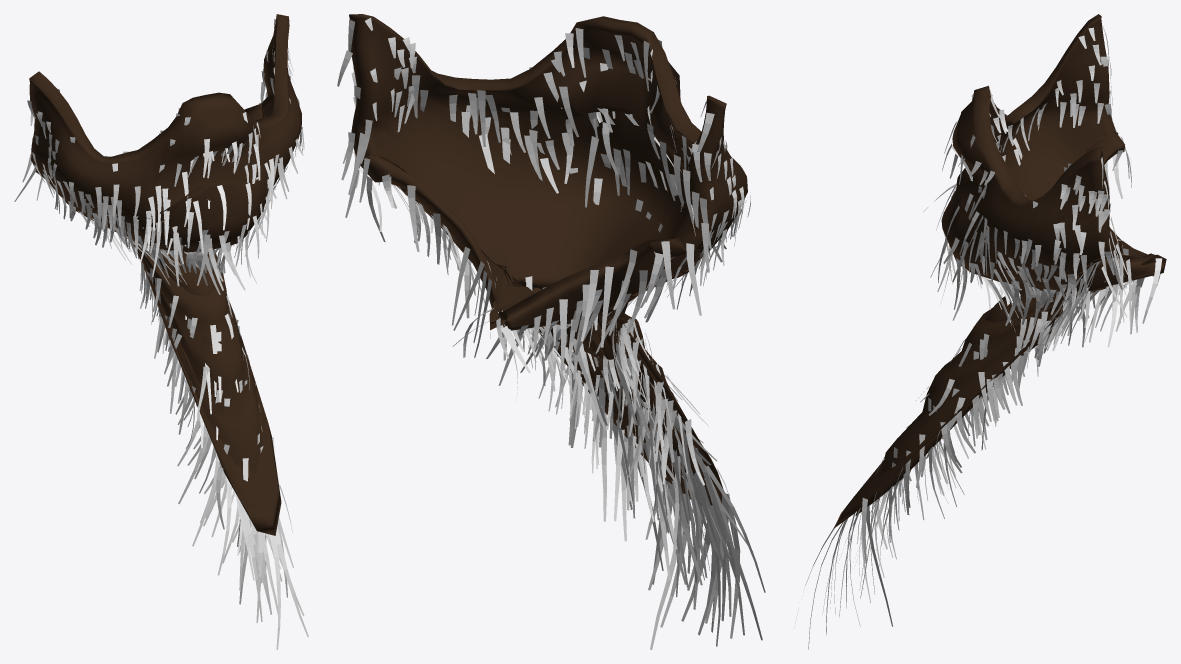
The model's file is beard-berserker-braided.glb.
The picture shows the model from 3 angles, left to right: view 1: azimuth 30°, elevation 25°; view 2: azimuth 150°, elevation 25°; view 3: azimuth 270°, elevation 25°; orthographic projection. The views are drawn at different scales.
Visible parts, largest first — view 1: beard-berserker-braided_1, beard__strands; view 2: beard-berserker-braided_1, beard__strands; view 3: beard-berserker-braided_1, beard__strands.
Boxes of the visible parts, x1,y1,x2,y2 form: beard-berserker-braided_1: [29, 14, 301, 535]; beard__strands: [14, 19, 308, 649]; beard-berserker-braided_1: [349, 14, 747, 505]; beard__strands: [337, 18, 765, 649]; beard-berserker-braided_1: [834, 14, 1166, 528]; beard__strands: [795, 27, 1162, 649].
Size of the model in its own units: 0.1749 by 0.3185 by 0.1921.
